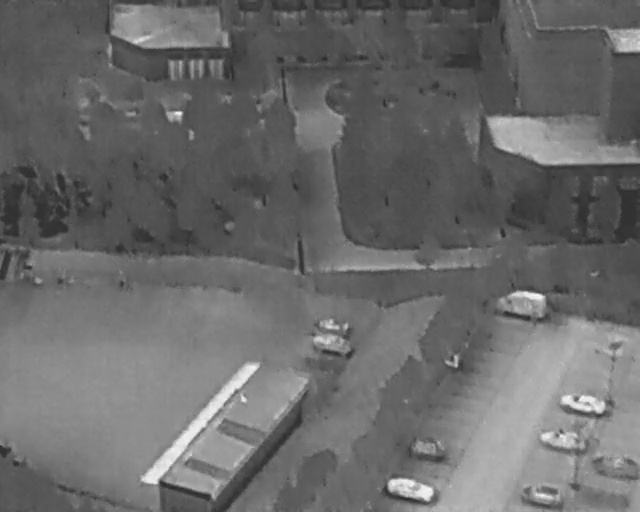Car: (493, 282, 549, 323), (537, 421, 590, 458), (383, 473, 437, 505), (559, 389, 607, 418), (309, 331, 353, 357), (520, 481, 562, 508), (312, 314, 351, 333)
